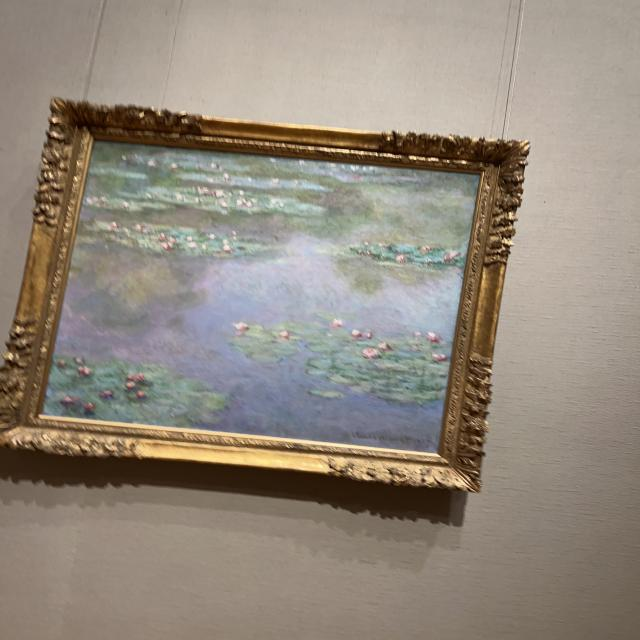lilies: (38, 143, 476, 451)
